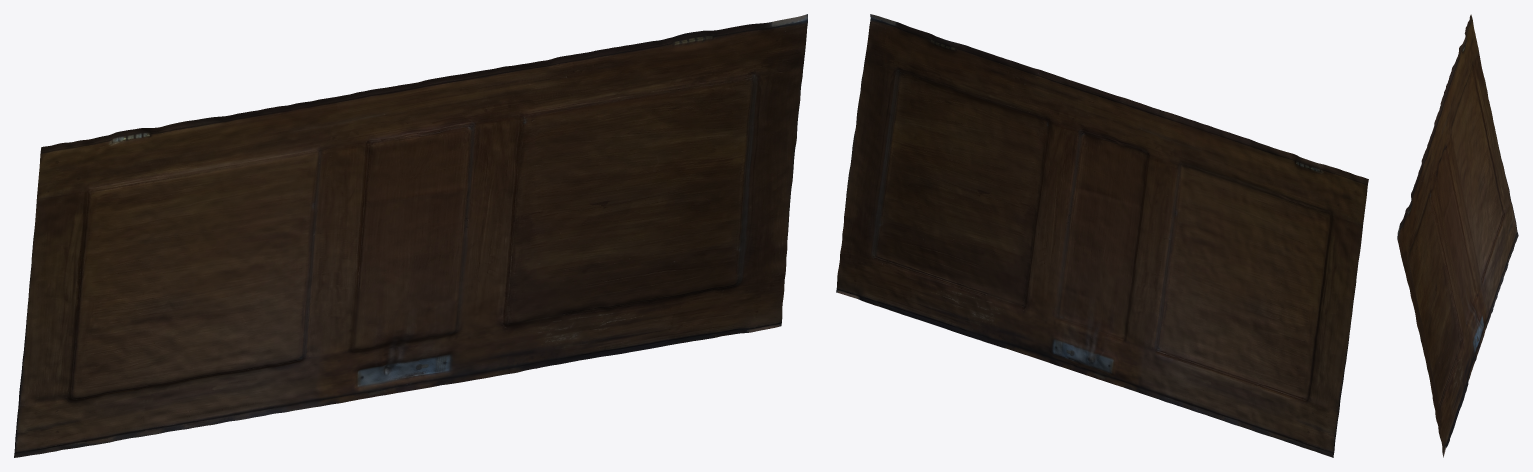
The model's file is pintu.fbx.
The picture shows the model from 3 angles, left to right: view 1: azimuth 30°, elevation 25°; view 2: azimuth 150°, elevation 25°; view 3: azimuth 270°, elevation 25°; orthographic projection. The views are drawn at different scales.
Visible parts, largest first — view 1: Model; view 2: Model; view 3: Model.
Boxes of the visible parts, x1,y1,x2,y2 form: Model: (14, 14, 807, 457); Model: (836, 14, 1368, 457); Model: (1397, 14, 1518, 457).
Bounding box in the file's own units: 9.46 × 4.3 × 2.15.
